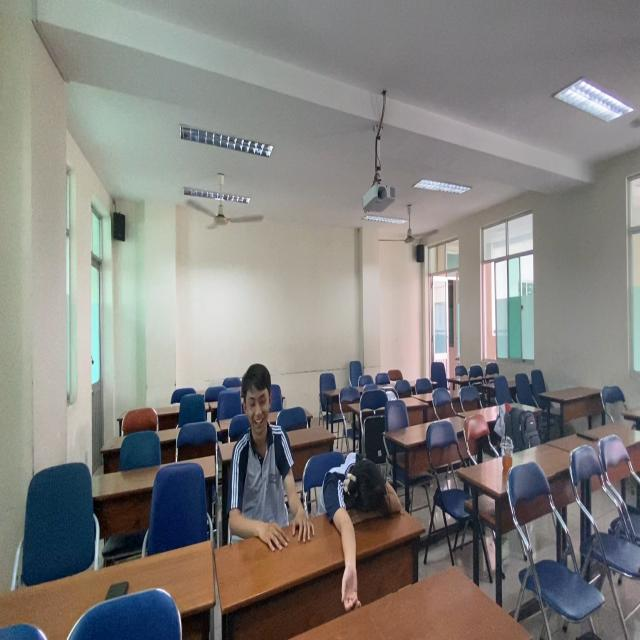sleep: (312, 445, 414, 545)
